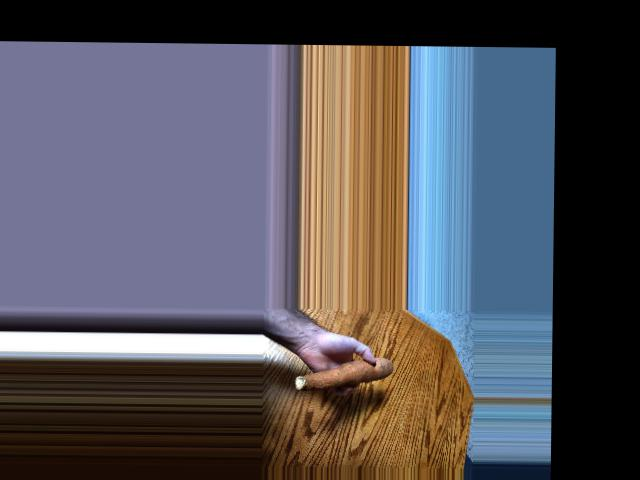sweet_potato: (290, 362, 398, 389)
